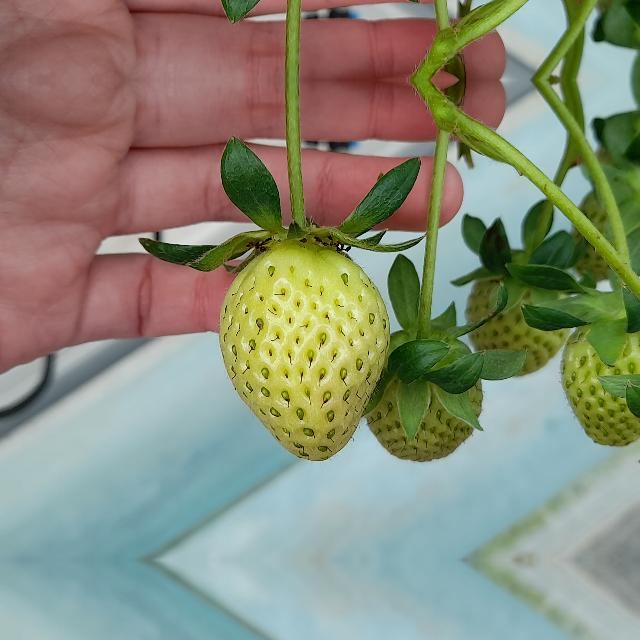Health_25: (218, 234, 390, 461), (364, 344, 484, 464), (564, 323, 640, 449)
